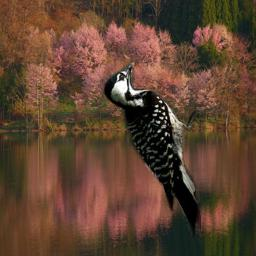Woodpecker: (102, 58, 201, 240)
